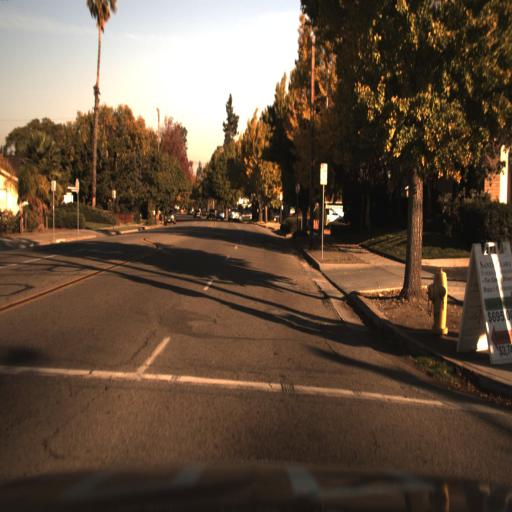car: (162, 202, 177, 225), (225, 206, 241, 225)
